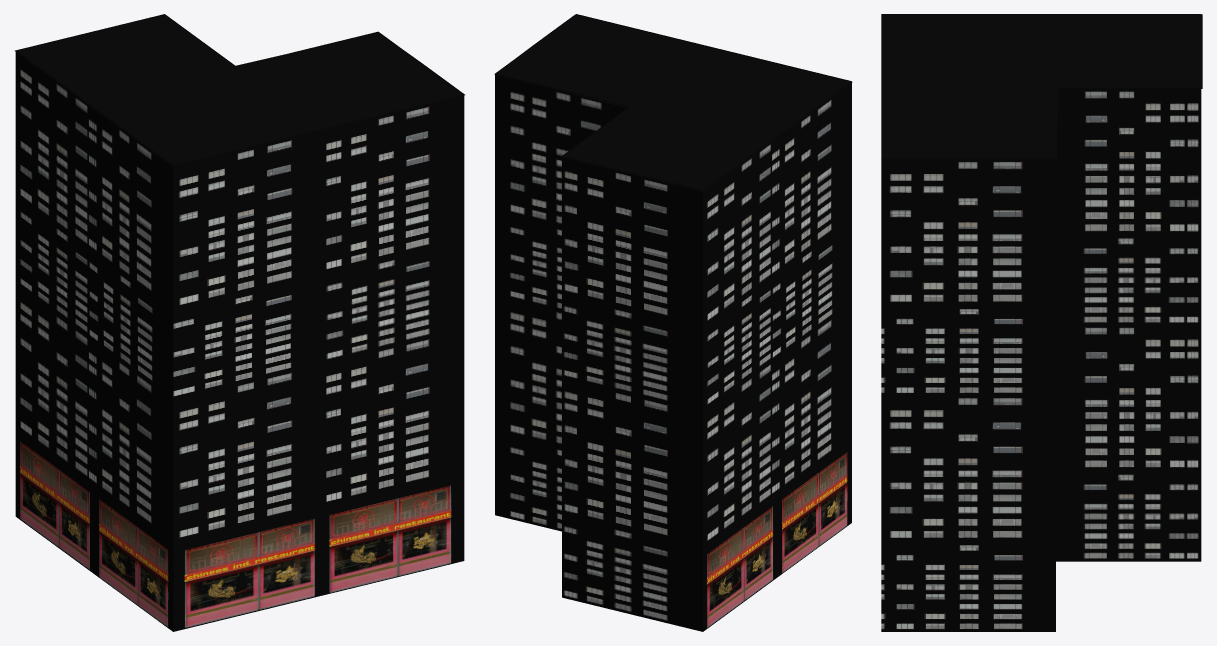
The model's file is building13.FBX.
3 renders of one model, left to right at view 1: azimuth 30°, elevation 25°; view 2: azimuth 150°, elevation 25°; view 3: azimuth 270°, elevation 25°, orthographic. The views are drawn at different scales.
Visible parts, largest first — view 1: Box001; view 2: Box001; view 3: Box001.
Part boxes in pixels (bbox=[...]): Box001: bbox=[14, 14, 464, 631]; Box001: bbox=[494, 14, 852, 631]; Box001: bbox=[881, 14, 1202, 631].
Size of the model in its own units: 78.7 by 120 by 73.59.
